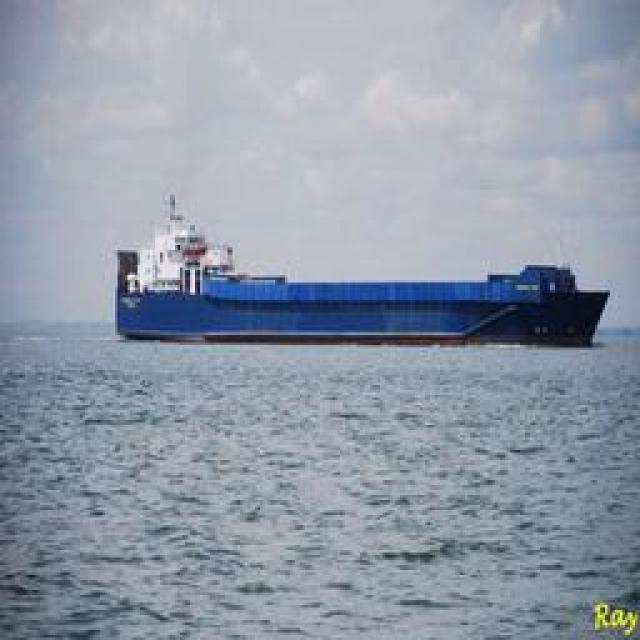CIV_Ship: (114, 215, 602, 345)
